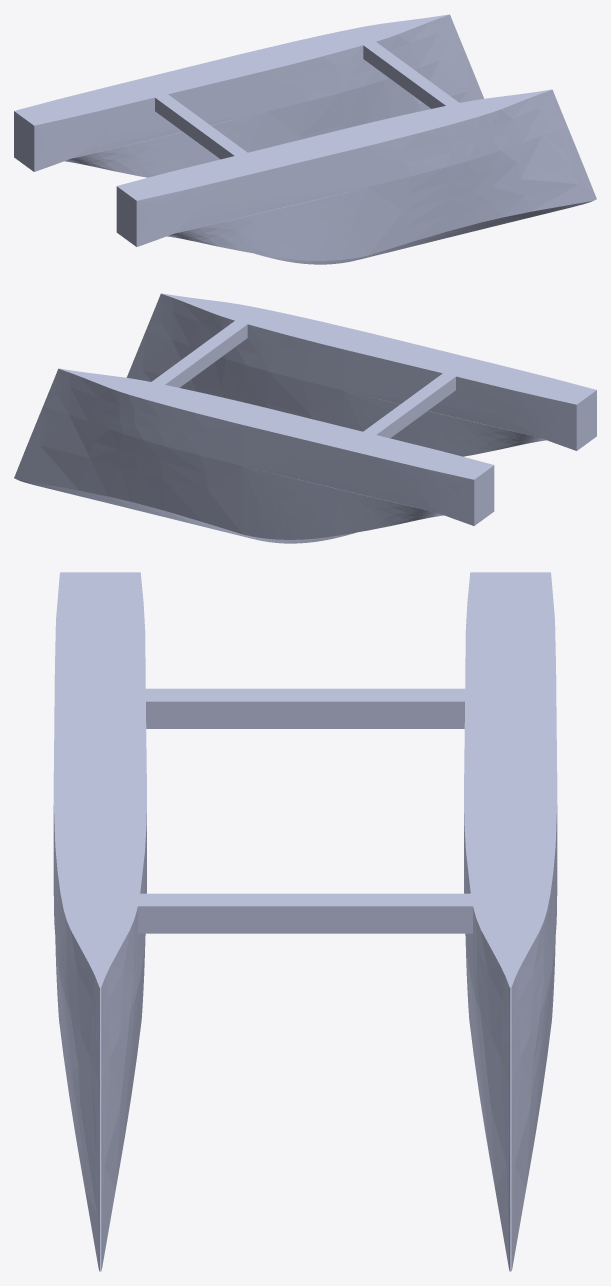
Rendered from asv.dae.
The picture shows the model from 3 angles, top to bottom: view 1: azimuth 30°, elevation 25°; view 2: azimuth 150°, elevation 25°; view 3: azimuth 270°, elevation 25°; orthographic projection. The views are drawn at different scales.
Parts seen in each view (by area): view 1: node0; view 2: node0; view 3: node0.
Boxes of the visible parts, x1,y1,x2,y2 form: node0: [14, 14, 596, 264]; node0: [14, 293, 596, 543]; node0: [53, 572, 557, 1271].
Bounding box in the file's own units: 1.2 × 0.5546 × 0.2985.
